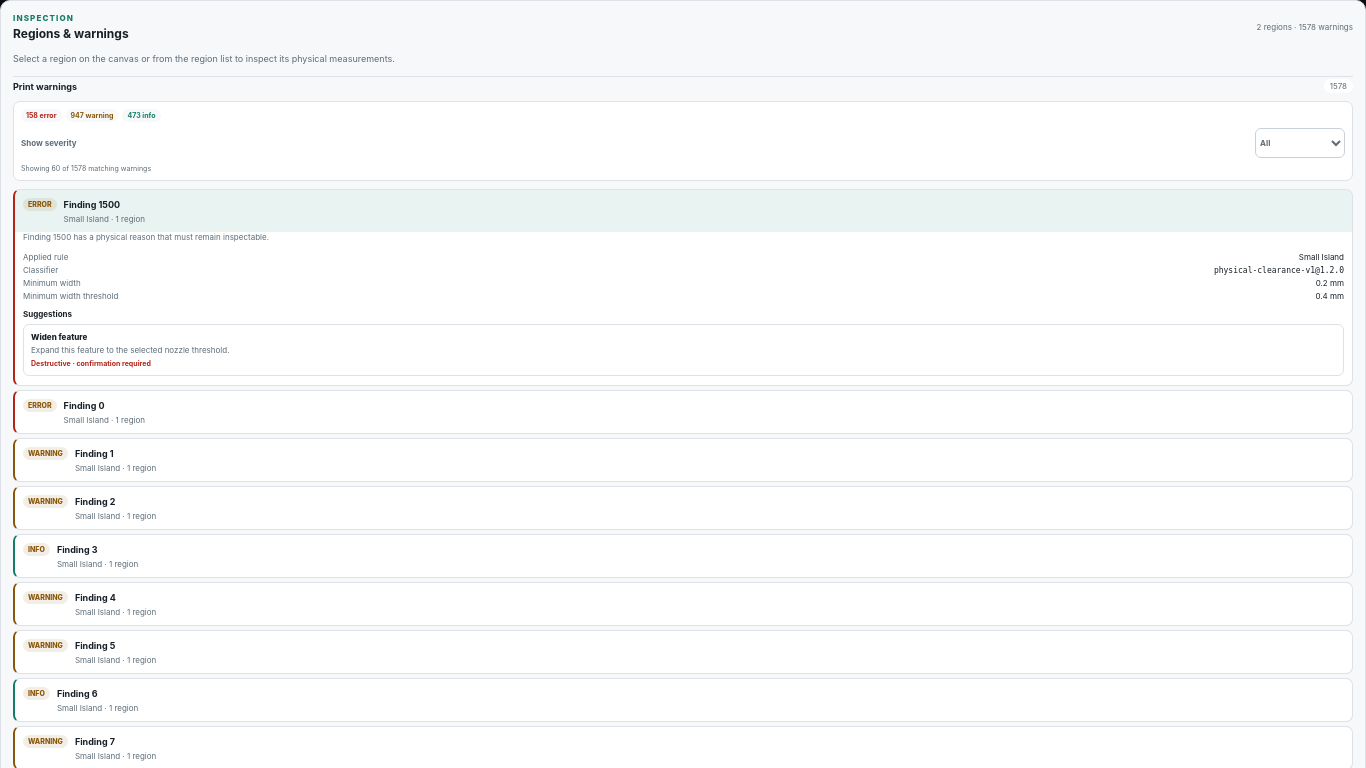
Scenario: RegionInspector › keeps a 1,578-warning report bounded, aggregated, filterable, and selected-warning synchronized
Check: the text "Showing 60 of 1578 matching warnings" is shown, box [21, 164, 151, 173]
Select "Info" in the dropdown labelled "Show severity": (1300, 143) [1255, 128, 1345, 158]
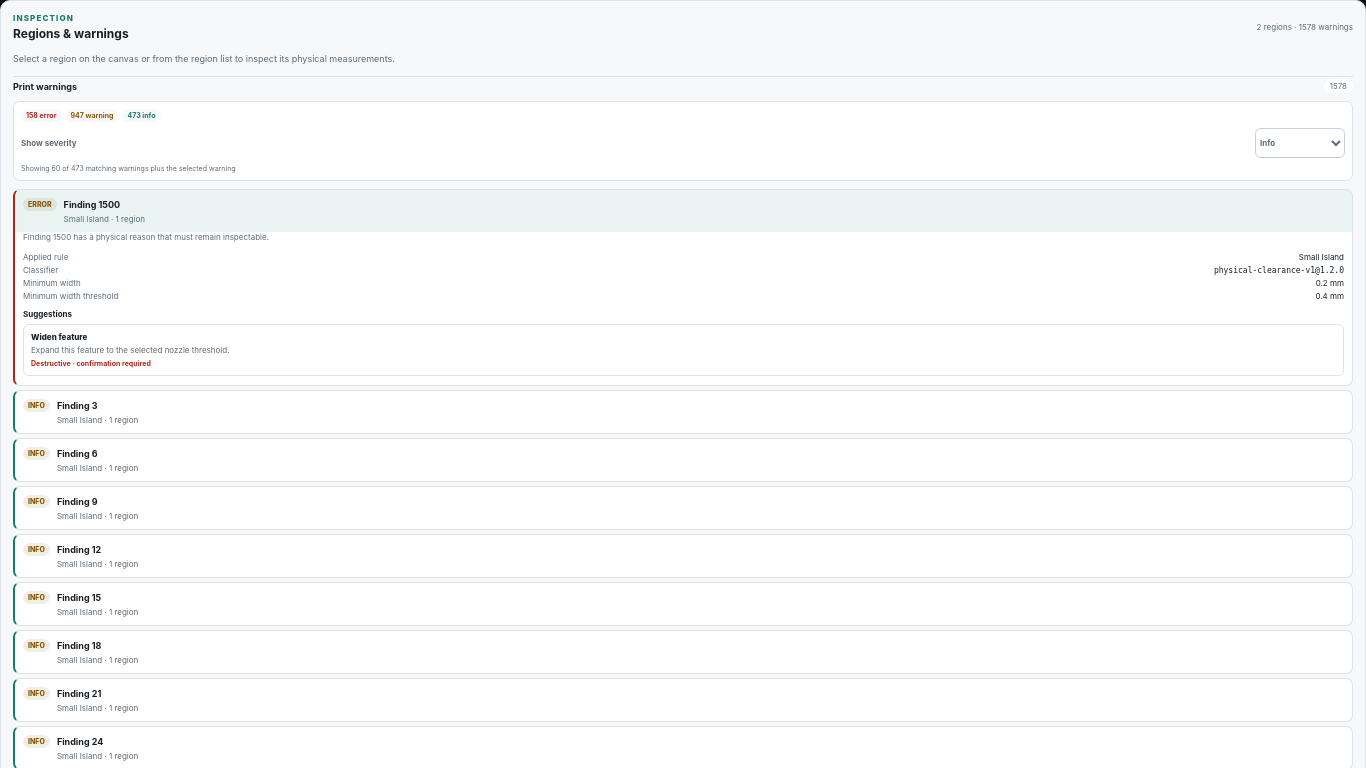
Check: the button "error Finding 1500 Small Island · 1 region" is shown, box [15, 190, 1352, 232]
Check: the text "plus the selected warning" is shown, box [149, 164, 236, 173]
